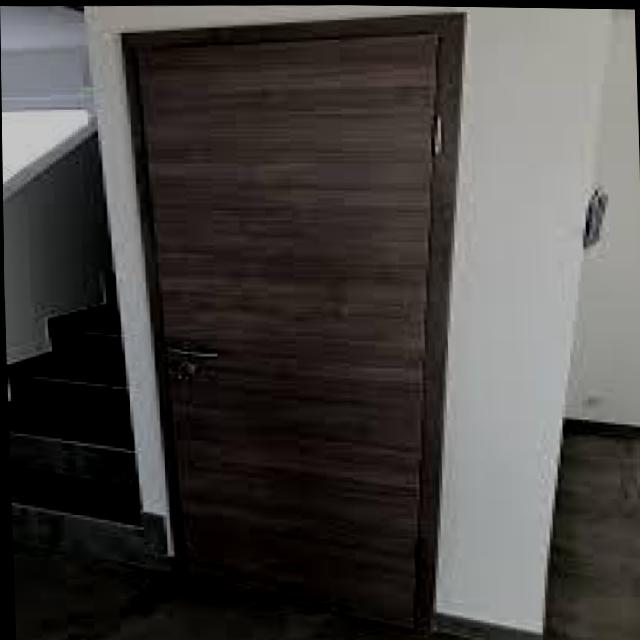close: (100, 5, 495, 639)
